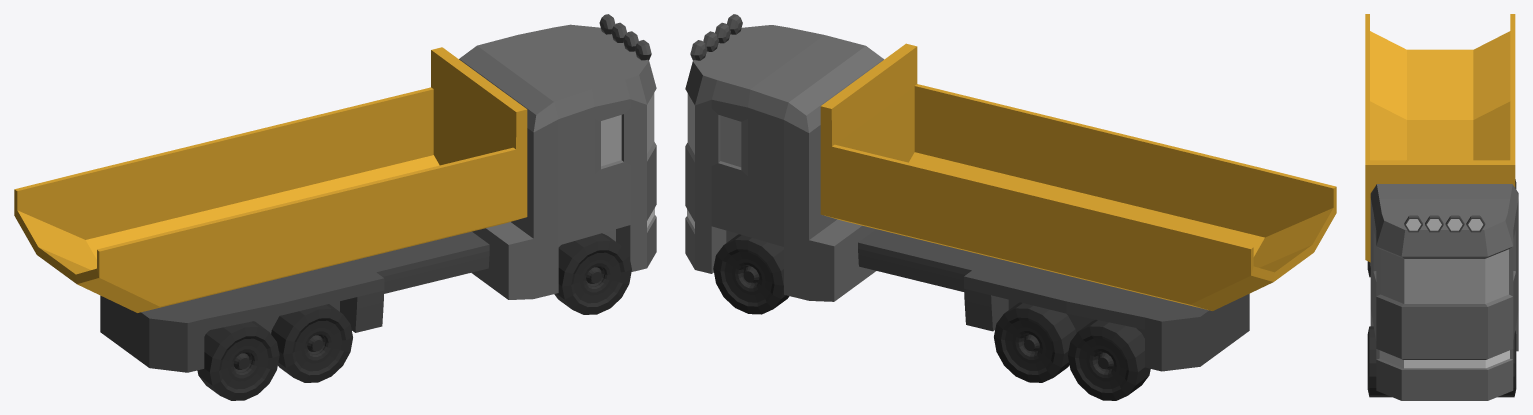
3 renders of one model, left to right at view 1: azimuth 30°, elevation 25°; view 2: azimuth 150°, elevation 25°; view 3: azimuth 270°, elevation 25°, orthographic. The views are drawn at different scales.
Parts seen in each view (by area): view 1: Cube.012, B-6, Cylinder.022, Cylinder.026, Cylinder.024; view 2: Cube.012, B-6, Cylinder.023, Cylinder.025, Cylinder.027; view 3: B-6, Cube.012, Cylinder.026, Cylinder.027.
Part boxes in pixels (x1,y1,x2,y2): Cube.012: [14, 47, 527, 312]; B-6: [100, 14, 656, 372]; Cylinder.022: [197, 321, 279, 400]; Cylinder.026: [554, 233, 631, 314]; Cylinder.024: [271, 304, 352, 382]; Cube.012: [820, 43, 1336, 310]; B-6: [685, 14, 1249, 371]; Cylinder.023: [1067, 319, 1150, 400]; Cylinder.025: [994, 302, 1076, 382]; Cylinder.027: [713, 234, 789, 314]; B-6: [1369, 184, 1518, 400]; Cube.012: [1365, 14, 1515, 262]; Cylinder.026: [1367, 326, 1391, 397]; Cylinder.027: [1497, 330, 1516, 397].
Size of the model in its own units: 3280 by 1281 by 856.
